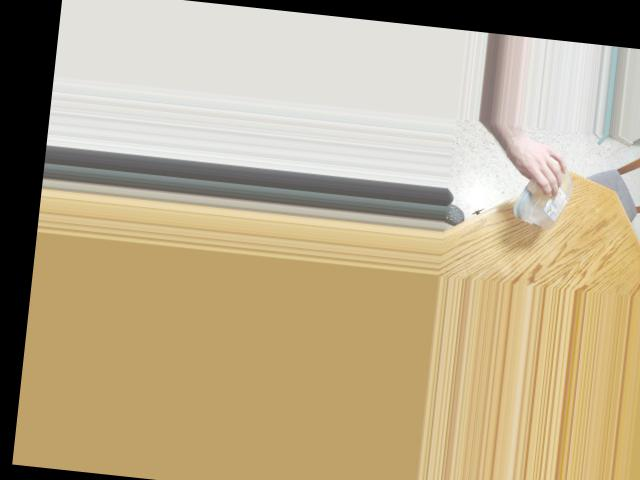cheese: (518, 164, 566, 227)
